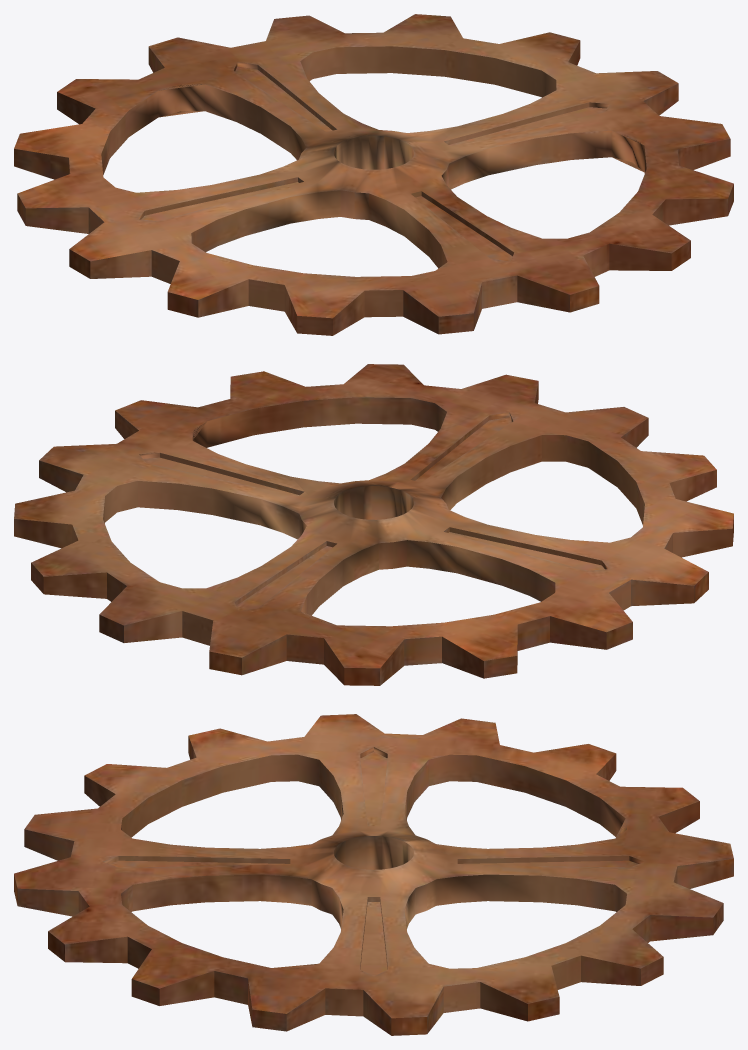
Rendered from steampunk_gear_03.glb.
The picture shows the model from 3 angles, top to bottom: view 1: azimuth 30°, elevation 25°; view 2: azimuth 150°, elevation 25°; view 3: azimuth 270°, elevation 25°; orthographic projection.
Parts seen in each view (by area): view 1: steampunk_gear_03; view 2: steampunk_gear_03; view 3: steampunk_gear_03.
Part boxes in pixels (x1=…): steampunk_gear_03: x1=14, y1=14, x2=733, y2=335; steampunk_gear_03: x1=14, y1=364, x2=733, y2=685; steampunk_gear_03: x1=14, y1=714, x2=733, y2=1035.
Size of what is drawn, in the model's own units: 0.1514 by 0.0103 by 0.1514.
Materials: 1 (1 with a texture image).
